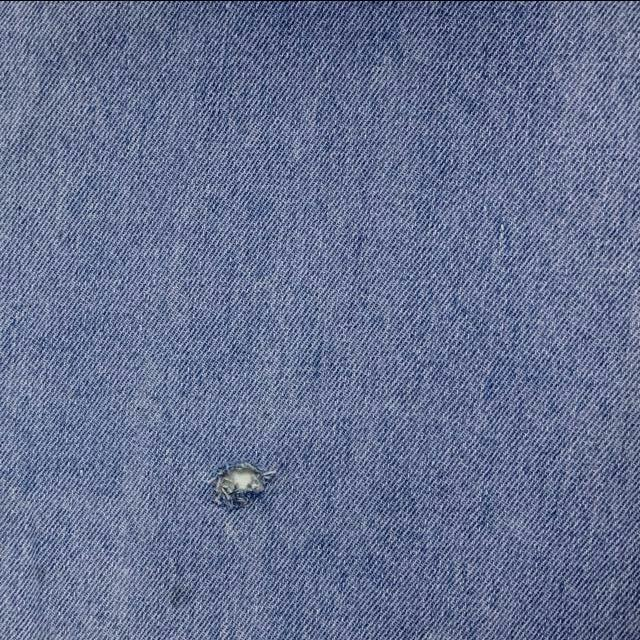seam: (206, 452, 278, 518)
